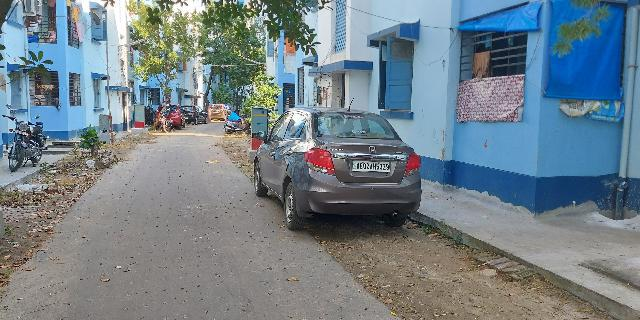Car: (247, 105, 425, 231)
Motorbike: (4, 115, 46, 171)
